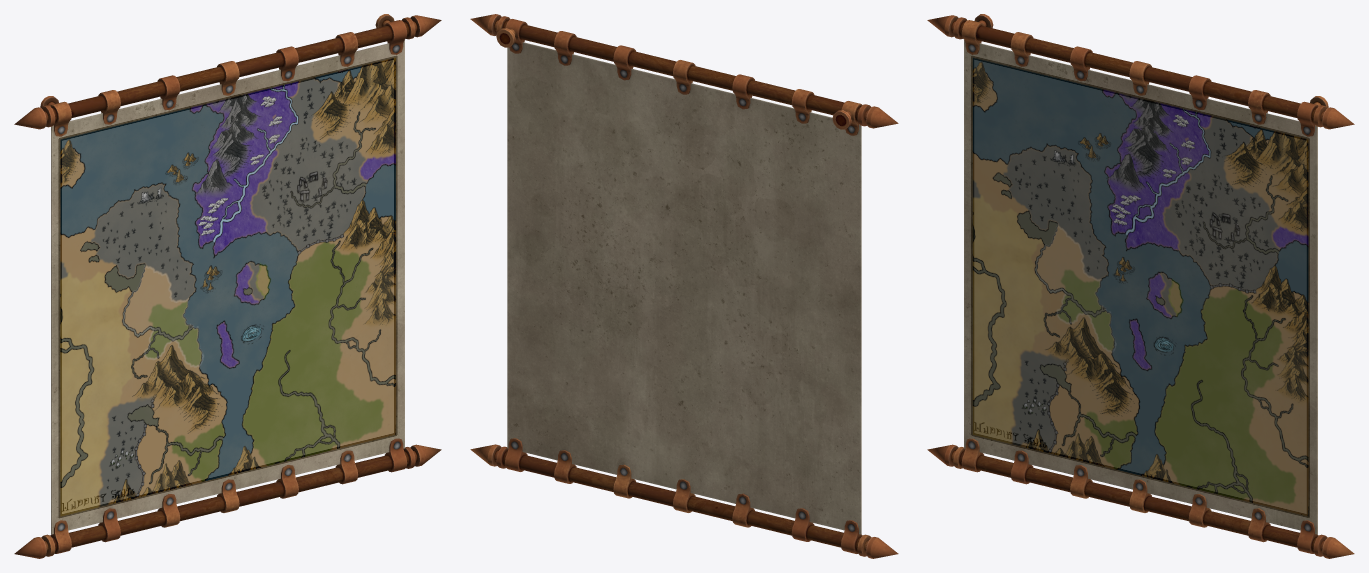
File: DS_WizLab_Clut_Map.fbx
3 renders of one model, left to right at view 1: azimuth 30°, elevation 25°; view 2: azimuth 150°, elevation 25°; view 3: azimuth 330°, elevation 25°, orthographic.
Visible parts, largest first — view 1: DS_WizLab_Clut_Map; view 2: DS_WizLab_Clut_Map; view 3: DS_WizLab_Clut_Map.
Boxes of the visible parts, bbox=[...] form: DS_WizLab_Clut_Map: bbox=[14, 14, 441, 558]; DS_WizLab_Clut_Map: bbox=[470, 14, 898, 558]; DS_WizLab_Clut_Map: bbox=[927, 14, 1354, 558].
Size of the model in its own units: 98 by 98.32 by 6.71.
1 material, 1 textured.
